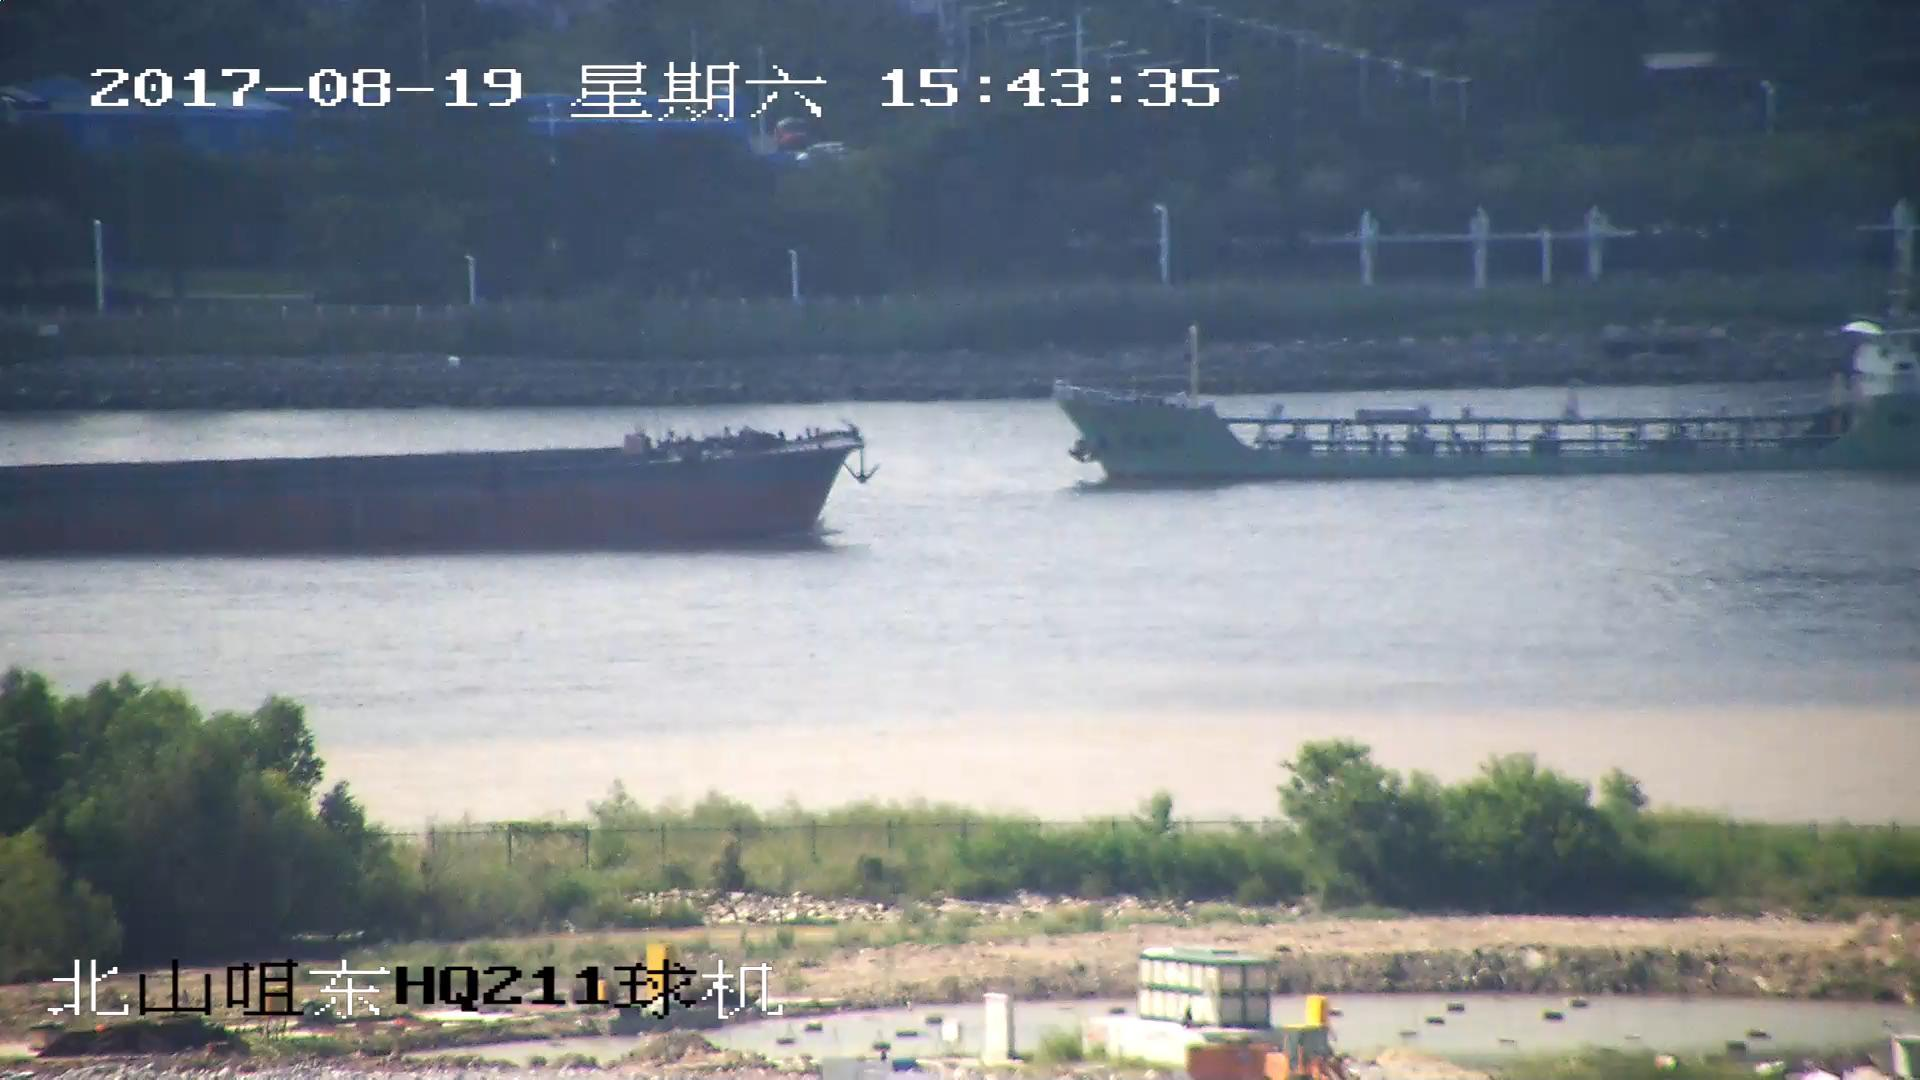Ship: (1054, 328, 1920, 485), (3, 423, 866, 558)
